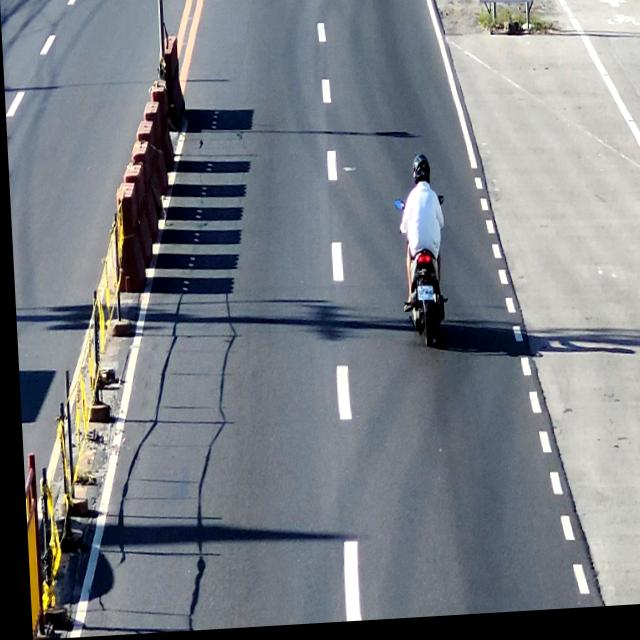License-Plate: (410, 289, 439, 308)
Motorcycle: (391, 158, 452, 370)
